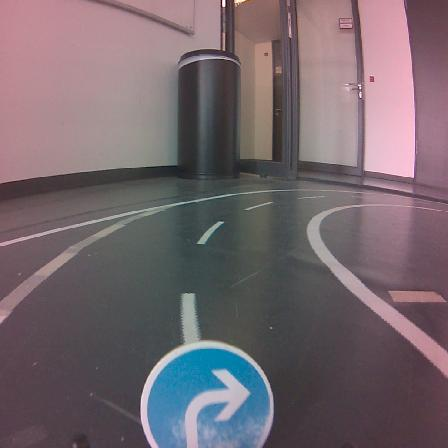RIGHT_TURN: (141, 341, 272, 447)
